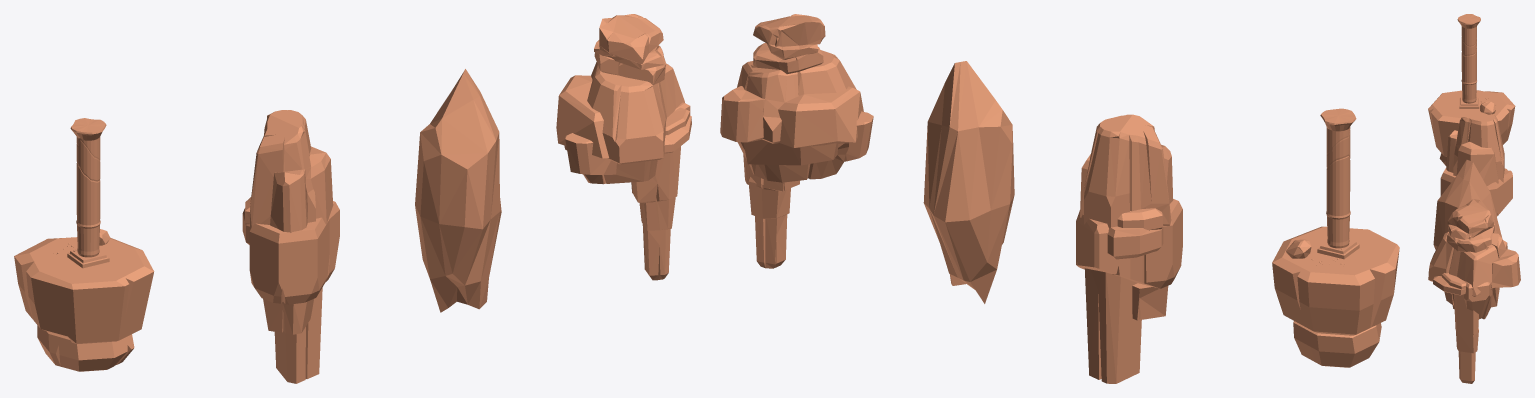
Rendered from flying_object.fbx.
The picture shows the model from 3 angles, left to right: view 1: azimuth 30°, elevation 25°; view 2: azimuth 150°, elevation 25°; view 3: azimuth 270°, elevation 25°; orthographic projection. The views are drawn at different scales.
Parts seen in each view (by area): view 1: flying_object_A, flying_object_C, flying_object_D, flying_object_B; view 2: flying_object_C, flying_object_A, flying_object_D, flying_object_B; view 3: flying_object_A, flying_object_D, flying_object_C, flying_object_B.
Part boxes in pixels (x1,y1,x2,y2): flying_object_A: (556,14,691,280); flying_object_C: (242,110,339,383); flying_object_D: (14,118,154,371); flying_object_B: (415,69,501,312); flying_object_C: (1076,114,1182,383); flying_object_A: (720,14,873,268); flying_object_D: (1272,108,1399,367); flying_object_B: (923,61,1014,303); flying_object_A: (1428,199,1520,383); flying_object_D: (1428,14,1515,166); flying_object_C: (1440,114,1512,216); flying_object_B: (1433,160,1501,309).
Bounding box in the file's own units: 3834 × 1696 × 730.
